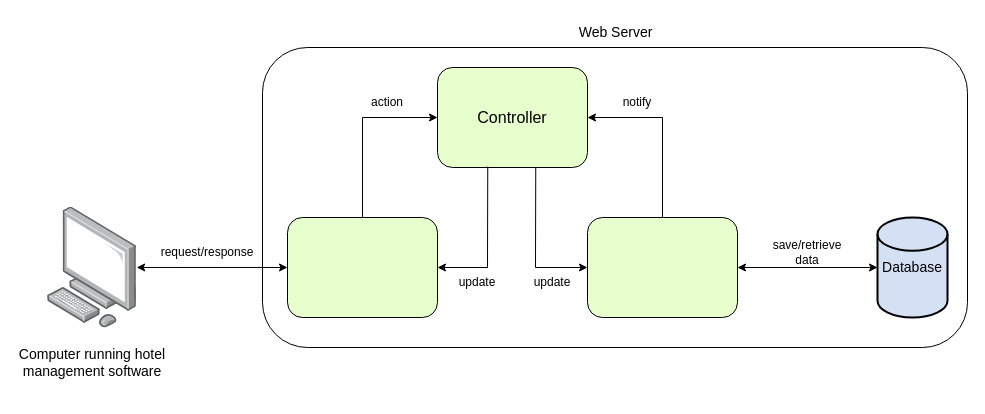
This 985x414 diagram has some shape labels left out. Each missing label, with the centre of its shape:
"Model" goes at point (662, 267).
"View" goes at point (362, 267).
